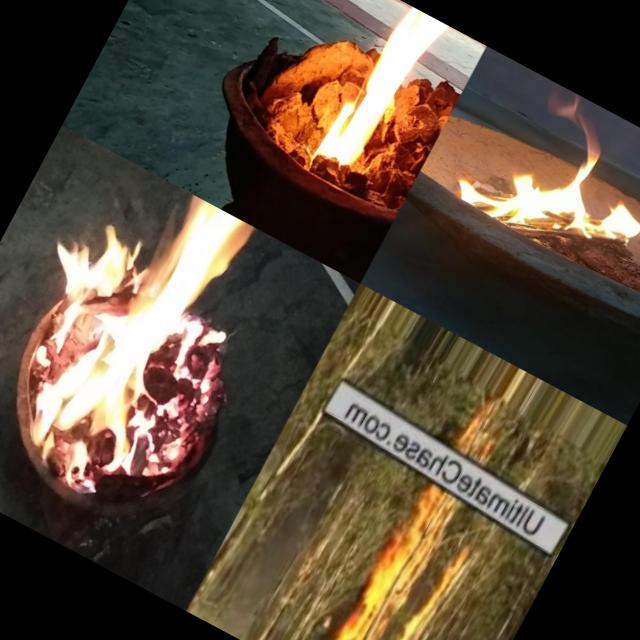fire: (0, 153, 306, 546), (450, 63, 640, 283), (295, 0, 470, 197), (311, 489, 485, 640)
